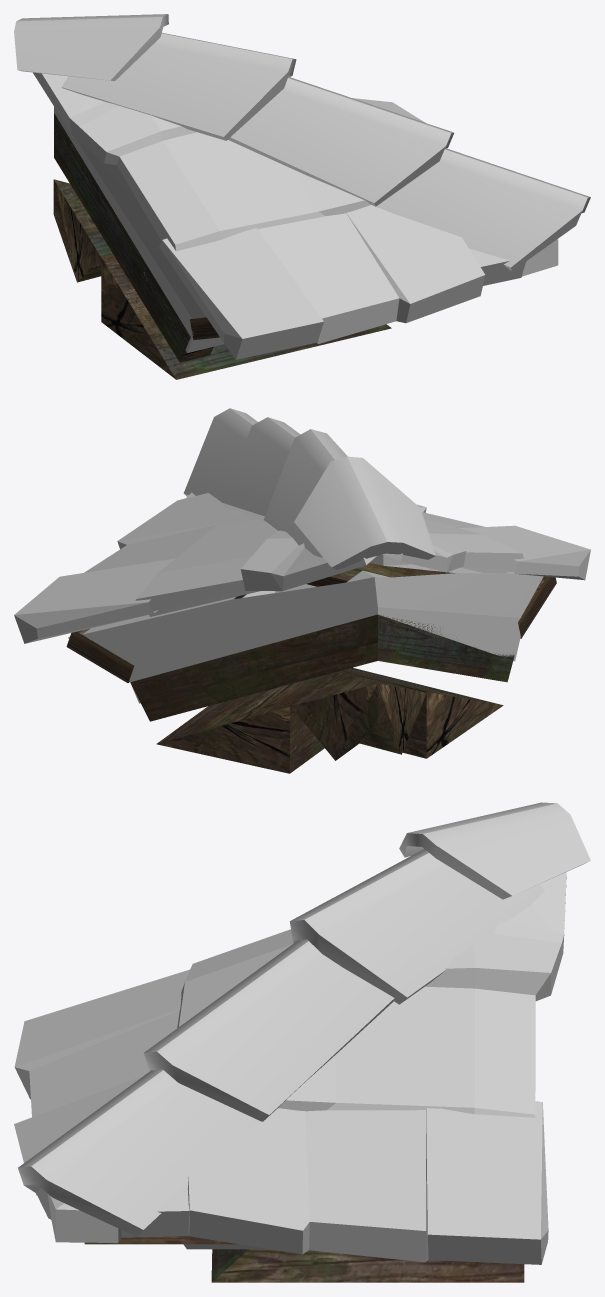
3 views of the same model, one above another, from view 1: azimuth 30°, elevation 25°; view 2: azimuth 150°, elevation 25°; view 3: azimuth 270°, elevation 25° (orthographic). The views are drawn at different scales.
Parts seen in each view (by area): view 1: SM_T1_Roof_Small_Hip_Shallow_LOD0; view 2: SM_T1_Roof_Small_Hip_Shallow_LOD0; view 3: SM_T1_Roof_Small_Hip_Shallow_LOD0.
Boxes of the visible parts, x1,y1,x2,y2 form: SM_T1_Roof_Small_Hip_Shallow_LOD0: [14, 14, 590, 379]; SM_T1_Roof_Small_Hip_Shallow_LOD0: [14, 408, 590, 773]; SM_T1_Roof_Small_Hip_Shallow_LOD0: [14, 802, 590, 1282].
Bounding box in the file's own units: 1.4 × 0.9696 × 1.41.
